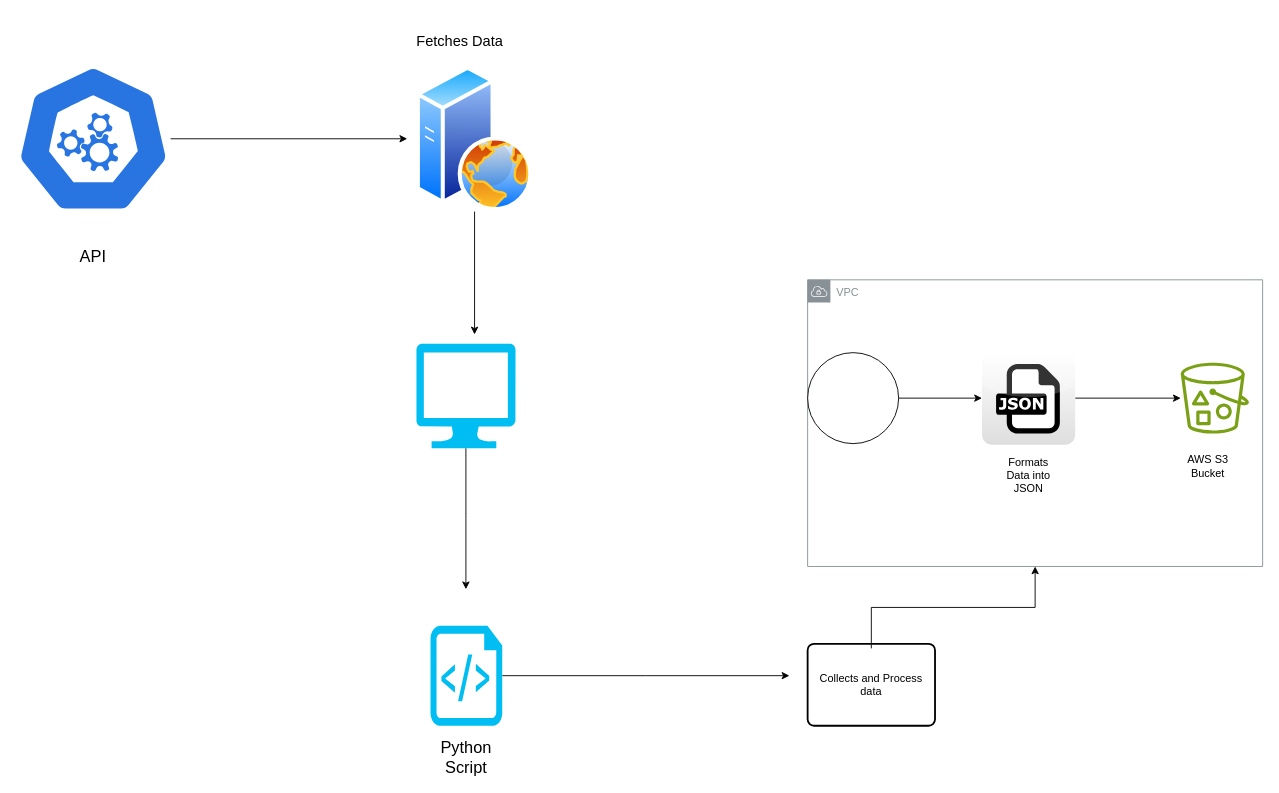
This 1279x793 diagram has some shape labels left out. Here are the shapes that lost their labels. From the top down, the centre of each, then its label:
(465,395): Local Host
(853,398): Obtain and Process Data
